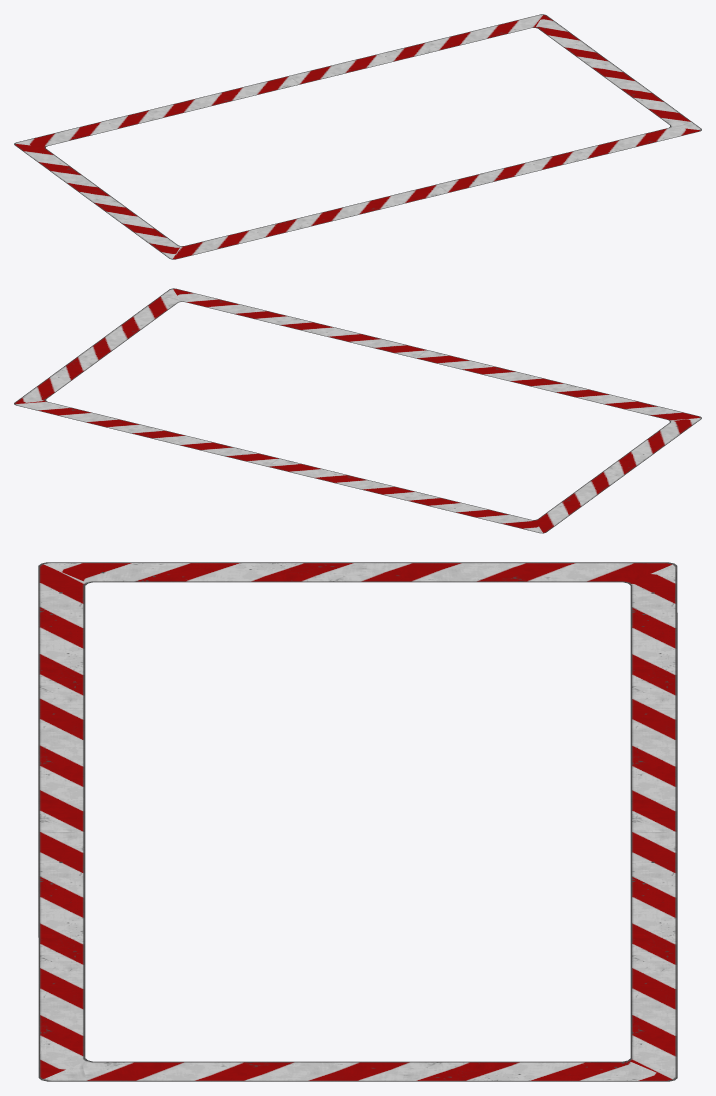
File: SM_FloorDecal_RecRed2x4.FBX
3 renders of one model, top to bottom at view 1: azimuth 30°, elevation 25°; view 2: azimuth 150°, elevation 25°; view 3: azimuth 270°, elevation 25°, orthographic. The views are drawn at different scales.
Parts seen in each view (by area): view 1: SM_FloorDecal_RecRed2x4; view 2: SM_FloorDecal_RecRed2x4; view 3: SM_FloorDecal_RecRed2x4.
Part boxes in pixels (box(x1,y1,x2,y2)): SM_FloorDecal_RecRed2x4: box(14, 14, 701, 259); SM_FloorDecal_RecRed2x4: box(14, 288, 701, 533); SM_FloorDecal_RecRed2x4: box(38, 562, 677, 1081).
Size of the model in its own units: 414 by 215 by 0.
